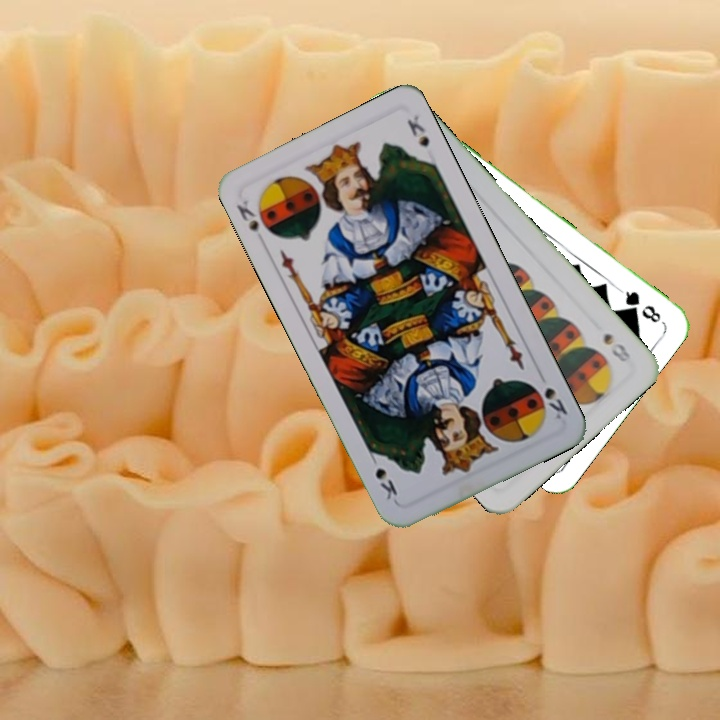G8: (615, 285, 664, 326)
S8: (599, 329, 634, 365)
SK: (232, 195, 276, 239), (540, 383, 570, 423)
